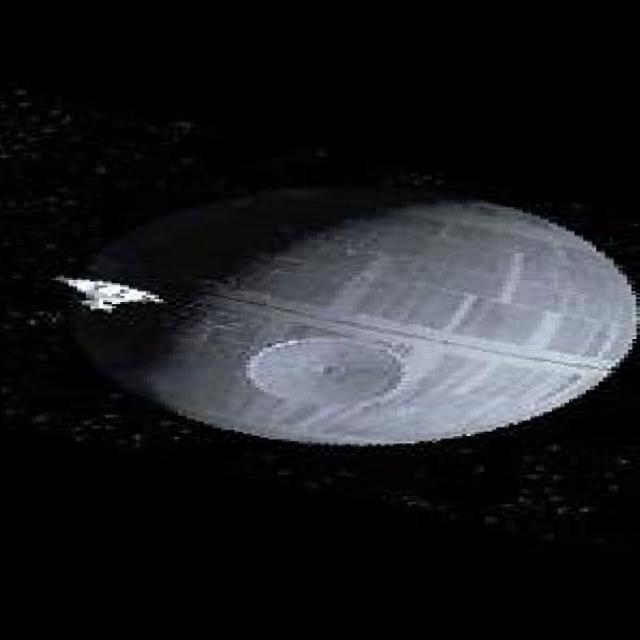Death Star: (46, 186, 634, 456)
